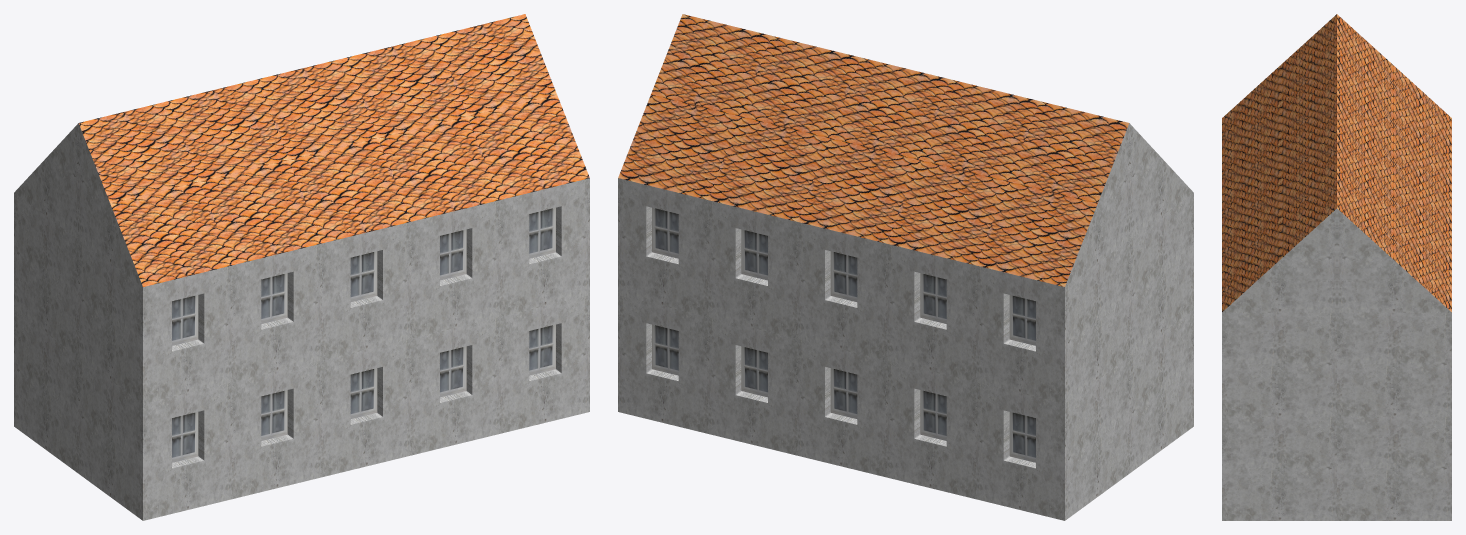
File: palace.gltf
3 renders of one model, left to right at view 1: azimuth 30°, elevation 25°; view 2: azimuth 150°, elevation 25°; view 3: azimuth 270°, elevation 25°, orthographic. The views are drawn at different scales.
Visible parts, largest first — view 1: Plane; view 2: Plane; view 3: Plane.
Part boxes in pixels (left/top/right/bottom): Plane: left=14, top=14, right=589, bottom=520; Plane: left=618, top=14, right=1193, bottom=520; Plane: left=1222, top=14, right=1451, bottom=520.
Bounding box in the file's own units: 1.33 × 1 × 0.6667.
Materials: 1 (1 with a texture image).
